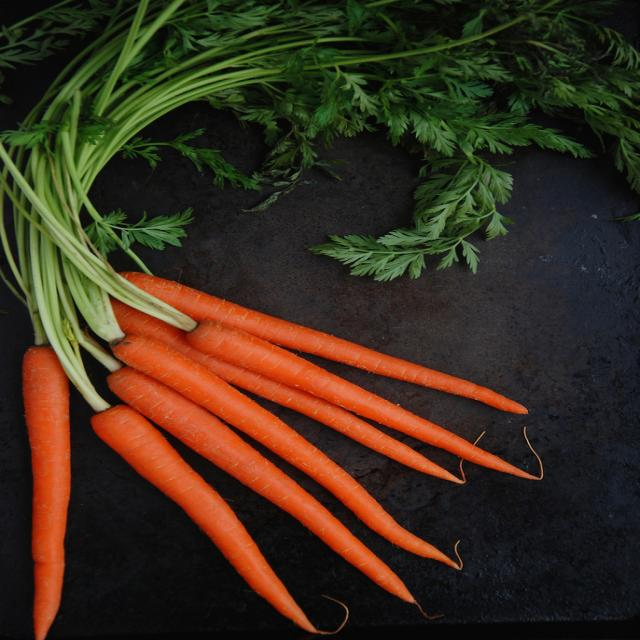Carrot: (14, 343, 88, 639)
